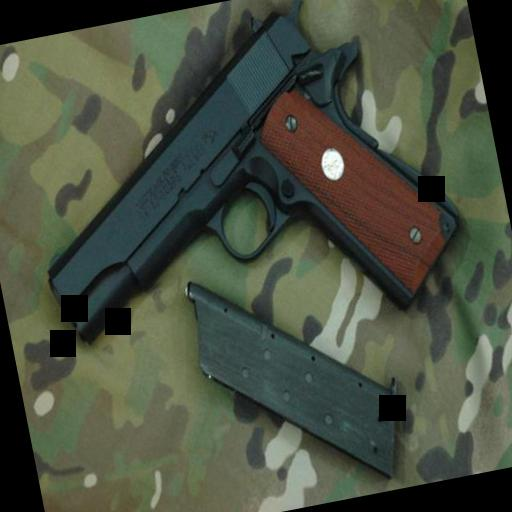Handgun: (3, 0, 476, 384)
